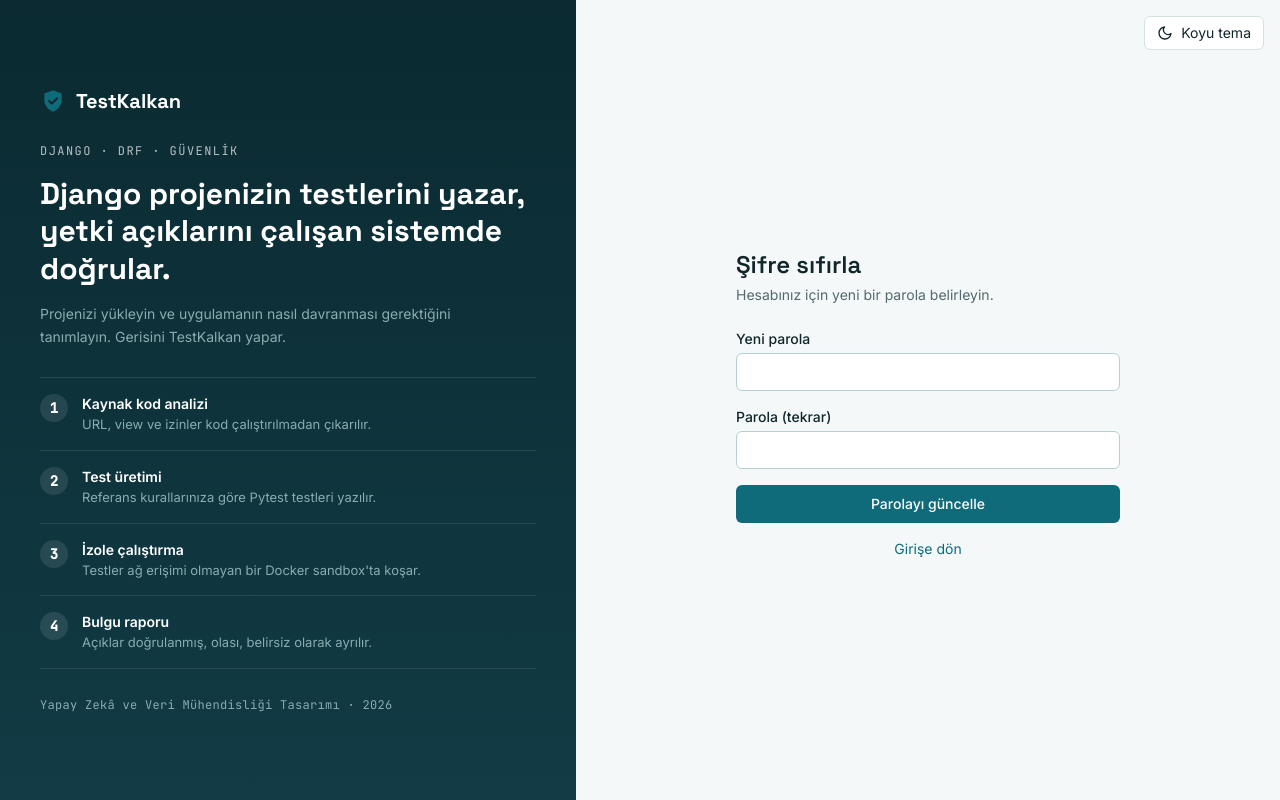
Scenario: parolalar eşleşmezse hata gösterilir
The width and height of the screenshot is (1280, 800).
Type "yeni-parola-ornek" into the password field labelled "Yeni parola" at x=928, y=372, box [736,353,1120,391]
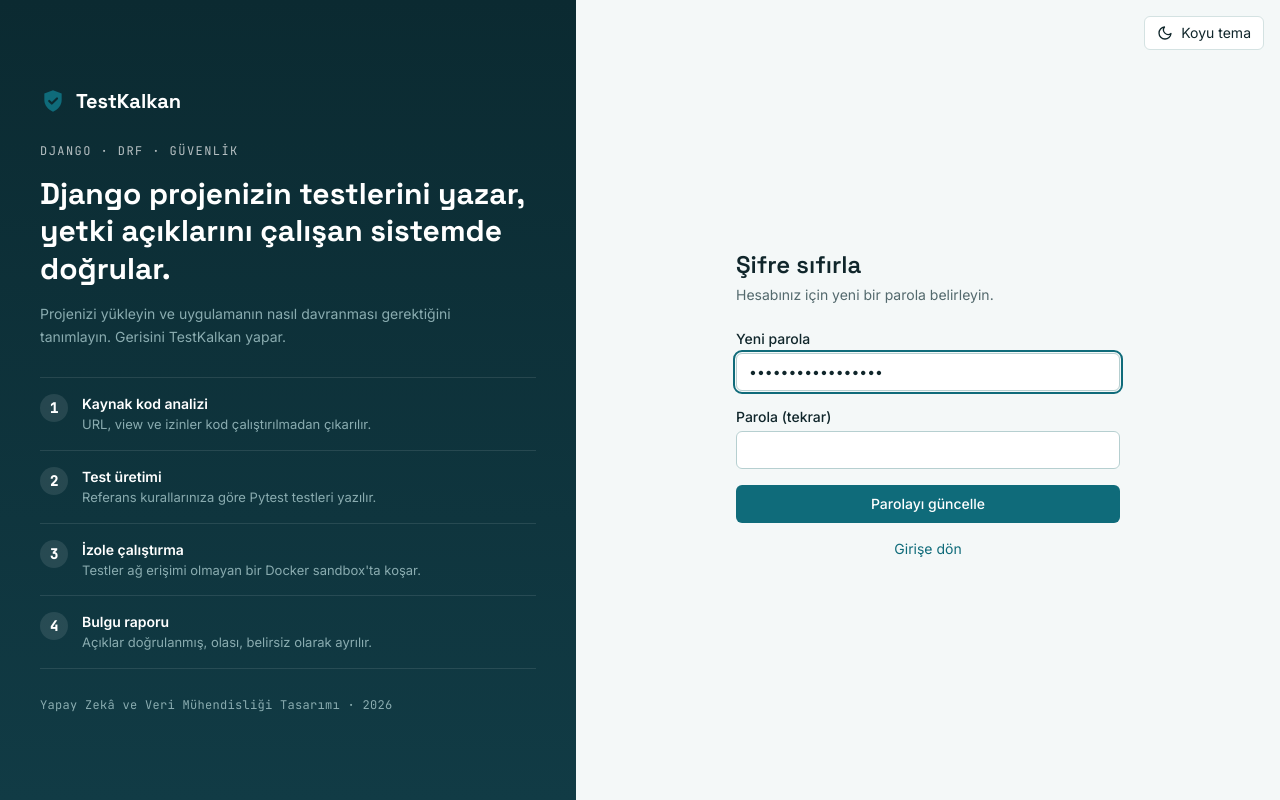
Type "baska-parola-ornek" into the password field labelled "Parola (tekrar)" at x=928, y=450, box [736,431,1120,469]
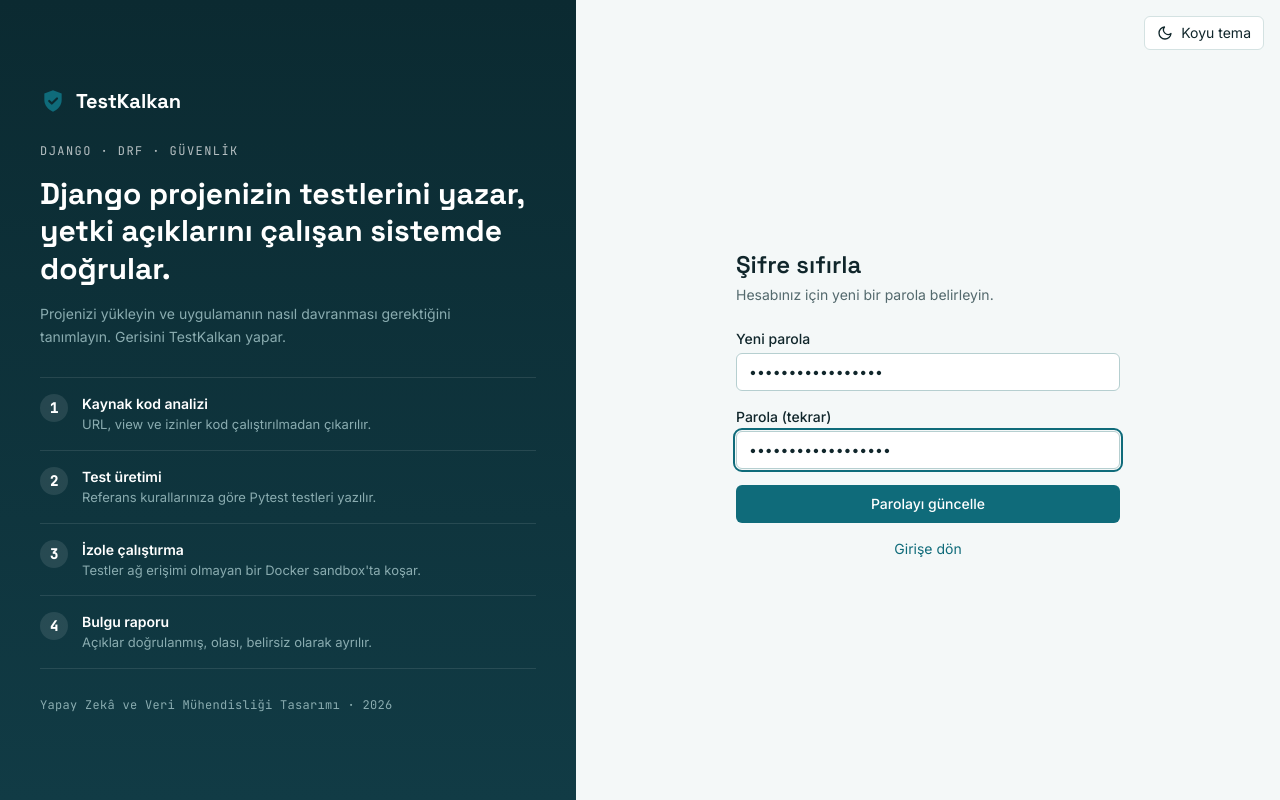
Click the button "Parolayı güncelle" at x=928, y=504, box [736,485,1120,523]
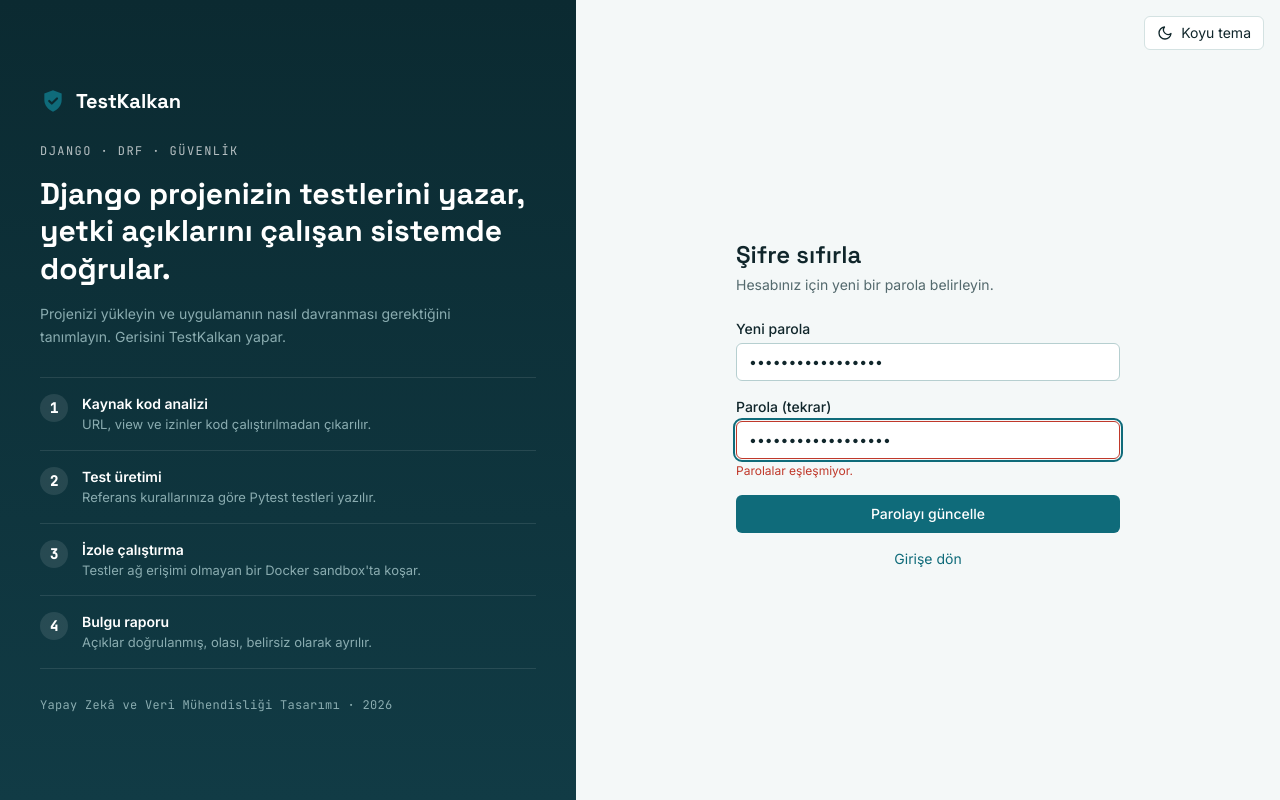
Result: the text "Parolalar eşleşmiyor." is shown at [736,463,853,478]
